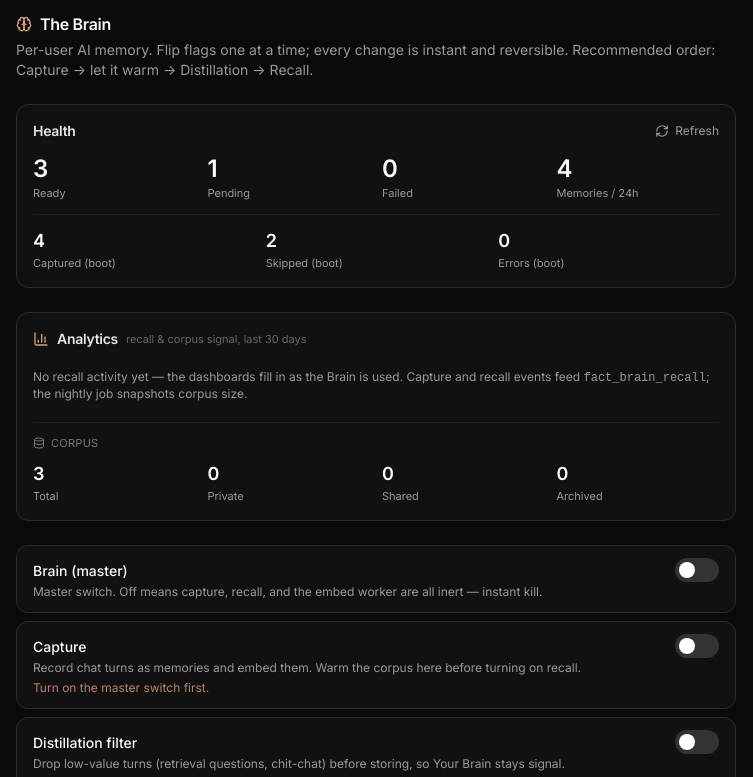
Test: BrainTab › reverts the toggle and shows an error when the PUT fails
This screenshot has width=753, height=777.
Expected: the text "Brain (master)" is shown, [33,562,128,579]
Click the switch named "Toggle Brain (master)" at [697, 570], box [675,558,719,582]
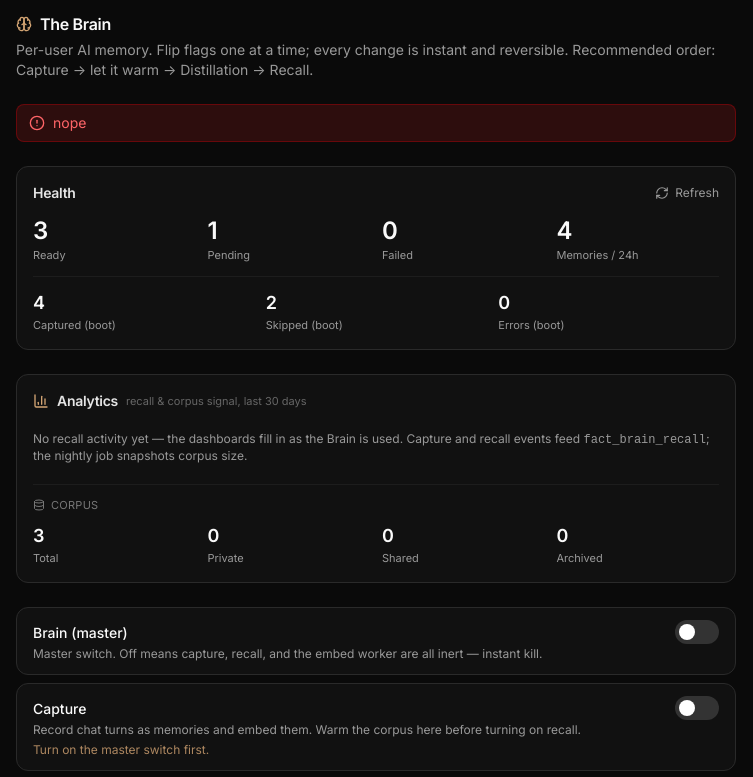
Now the text "nope" is shown, box [16,104,736,142]
